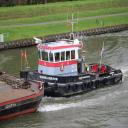tugboat: (21, 33, 125, 100)
